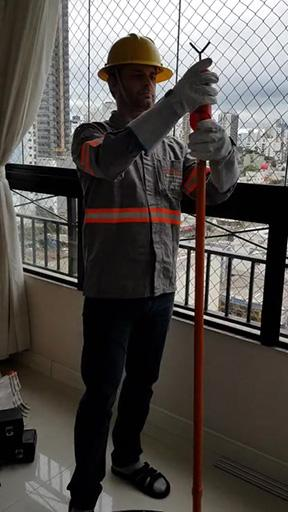Vara_Manobra: (192, 159, 207, 512)
